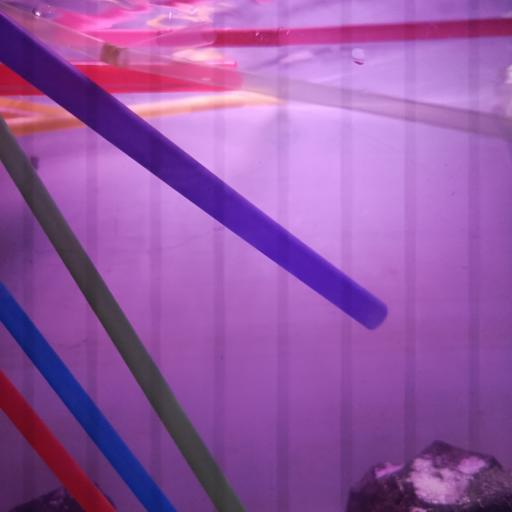plastic_straw: (1, 11, 389, 334), (0, 117, 246, 512), (1, 0, 512, 141), (1, 282, 176, 512), (0, 368, 116, 512), (82, 15, 512, 50), (0, 92, 285, 138), (0, 60, 241, 98)
